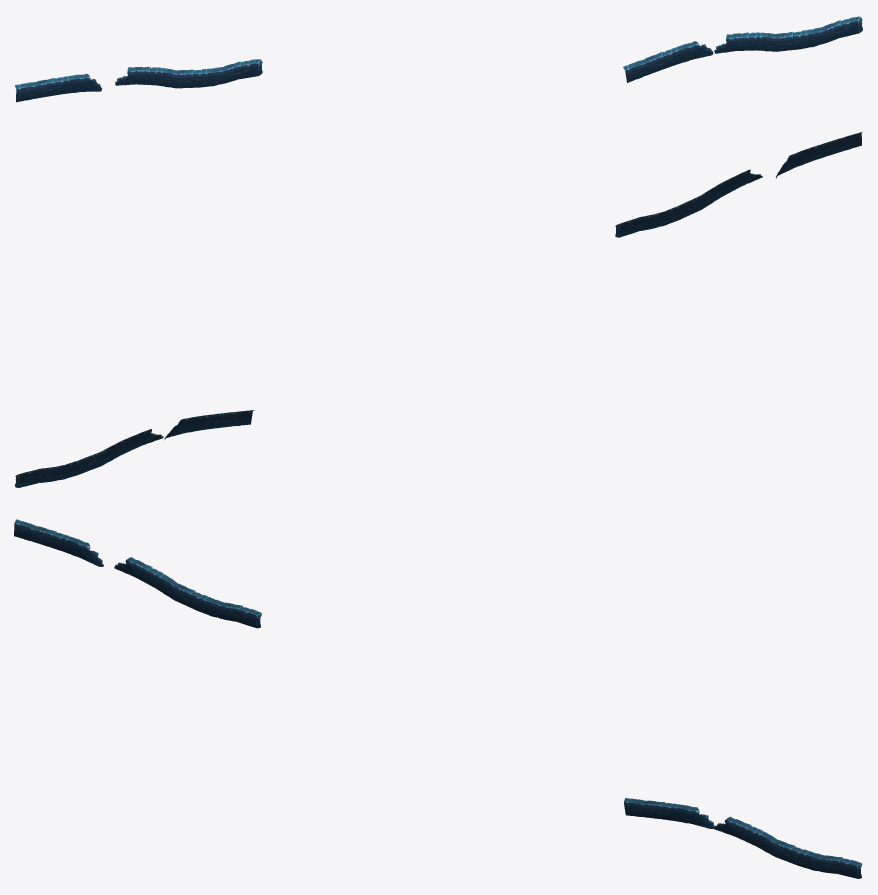
The model's file is Dark Forest Wall BG.FBX.
The picture shows the model from 3 angles, top to bottom: view 1: azimuth 30°, elevation 25°; view 2: azimuth 210°, elevation 25°; view 3: azimuth 330°, elevation 25°; orthographic projection.
Parts seen in each view (by area): view 1: Wall BG, Wall BG Part 4, Wall BG Part 5; view 2: Wall BG, Wall BG Part 4, Wall BG Part 5; view 3: Wall BG, Wall BG Part 4, Wall BG Part 5.
Part boxes in pixels (x1,y1,x2,y2): Wall BG: (14,59,262,102); Wall BG Part 4: (623,32,757,82); Wall BG Part 5: (755,16,862,51); Wall BG: (615,131,862,237); Wall BG Part 4: (120,410,254,454); Wall BG Part 5: (15,441,122,487); Wall BG: (14,519,261,628); Wall BG Part 4: (624,798,758,845); Wall BG Part 5: (754,829,862,878).
Size of the model in its own units: 9096 by 44.62 by 1598.
